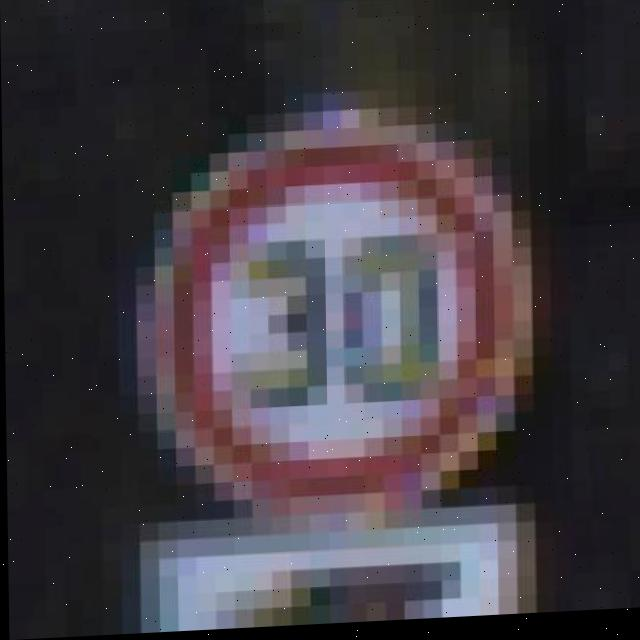Speed limit 30: (146, 109, 524, 526)
